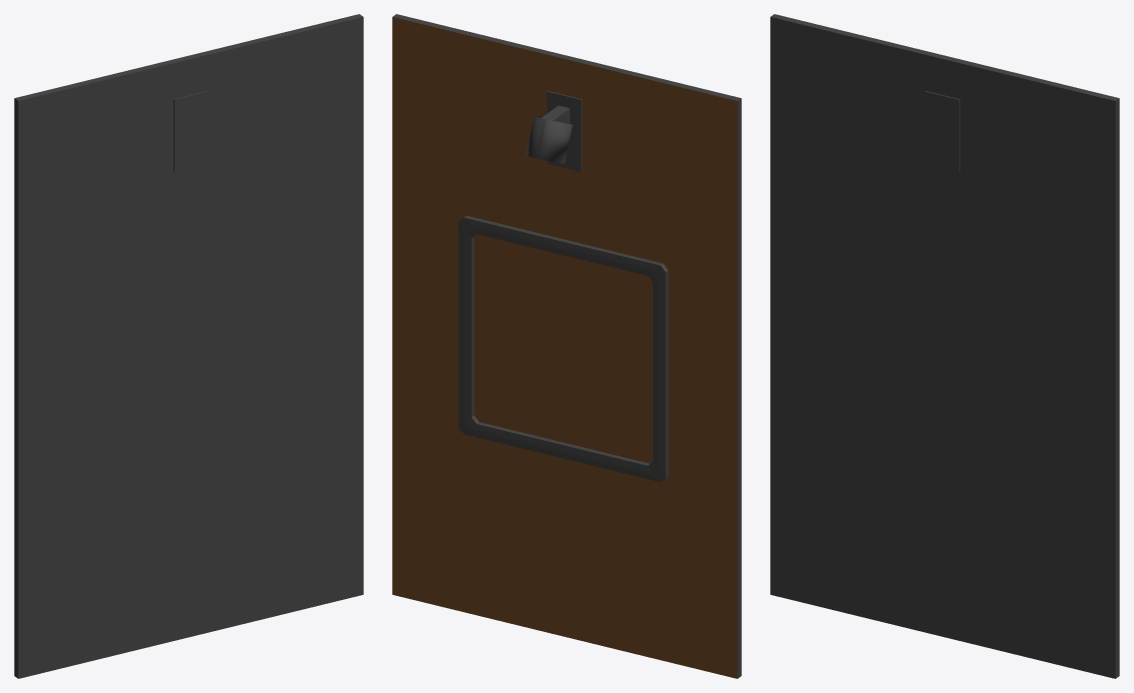
Rendered from PictureWall.fbx.
3 renders of one model, left to right at view 1: azimuth 30°, elevation 25°; view 2: azimuth 150°, elevation 25°; view 3: azimuth 330°, elevation 25°, orthographic.
Parts seen in each view (by area): view 1: Cube.002; view 2: Cube.002; view 3: Cube.002.
Part boxes in pixels (<box>): Cube.002: <box>14,14,363,678</box>; Cube.002: <box>392,14,741,678</box>; Cube.002: <box>770,14,1119,678</box>.
Size of the model in its own units: 1000 by 1600 by 169.
